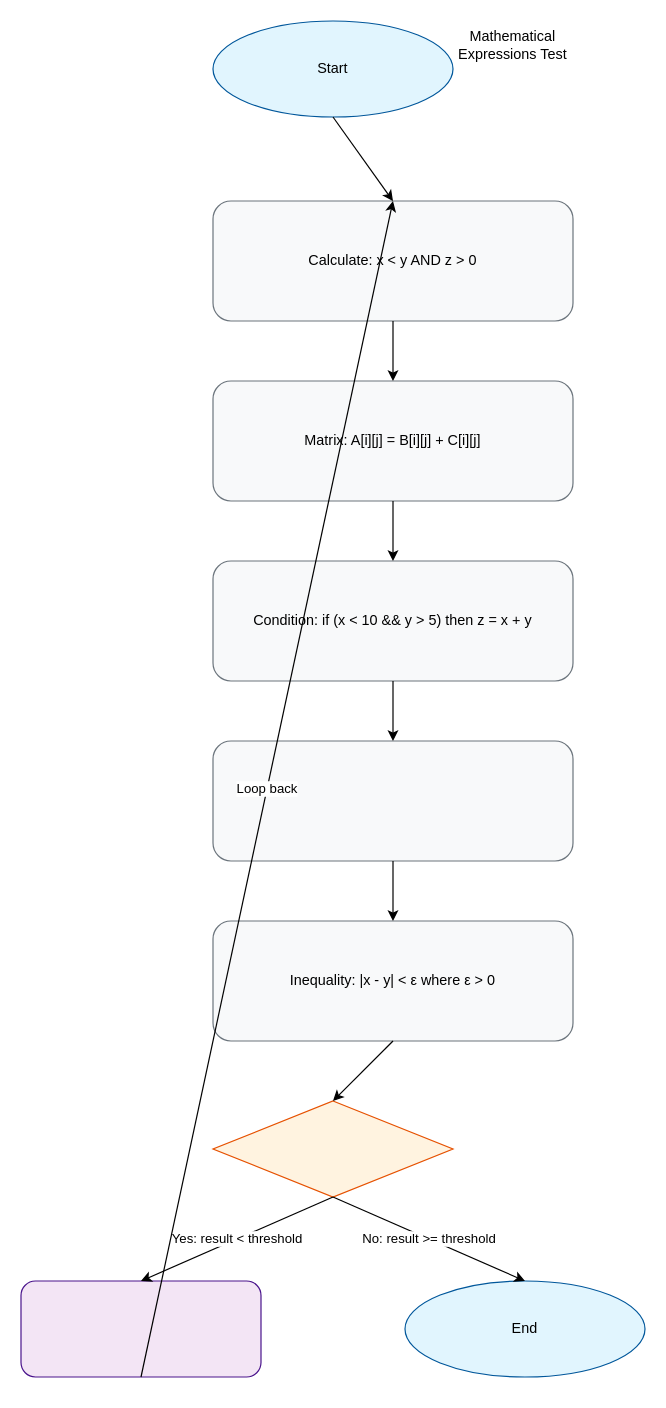
This 666x1408 diagram has some shape labels left out. The centre of each missing label's shape, as x and y in pixels:
"Formula: f(x) = x² + 2x + 1 where x ≠ 0" belongs at (392,800).
"Is result < threshold?" belongs at (332,1148).
"Update: x = x + 1, y = y - 1" belongs at (140,1328).
